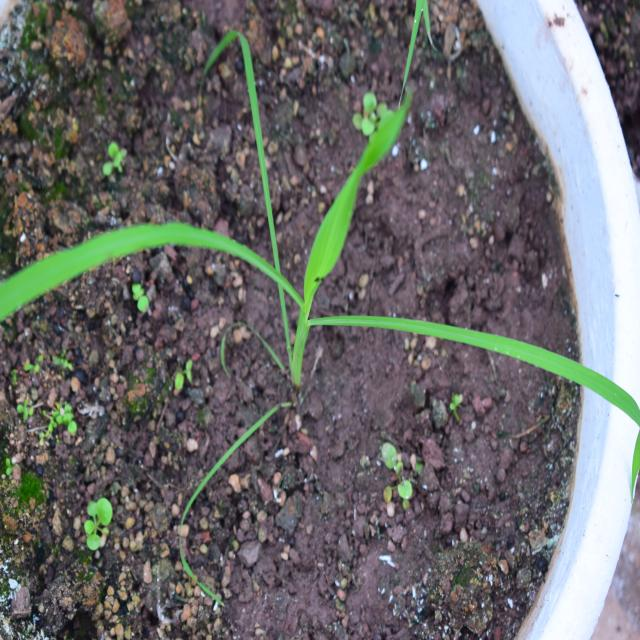barnyard_grass: (10, 94, 625, 448)
